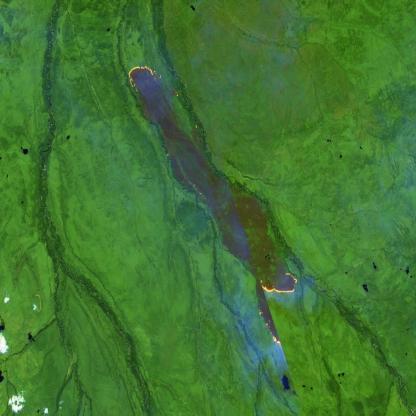fire: (257, 272, 299, 348), (126, 64, 162, 90)
